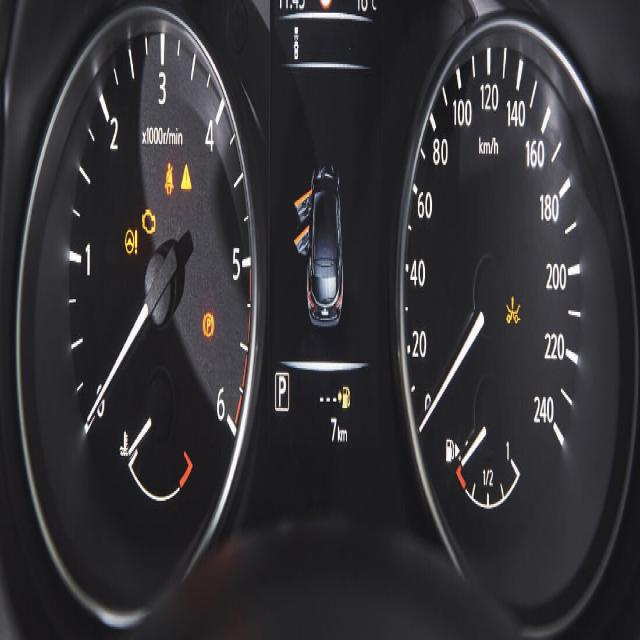kontrolka: (200, 302, 218, 352), (140, 204, 158, 240), (123, 223, 139, 259)
